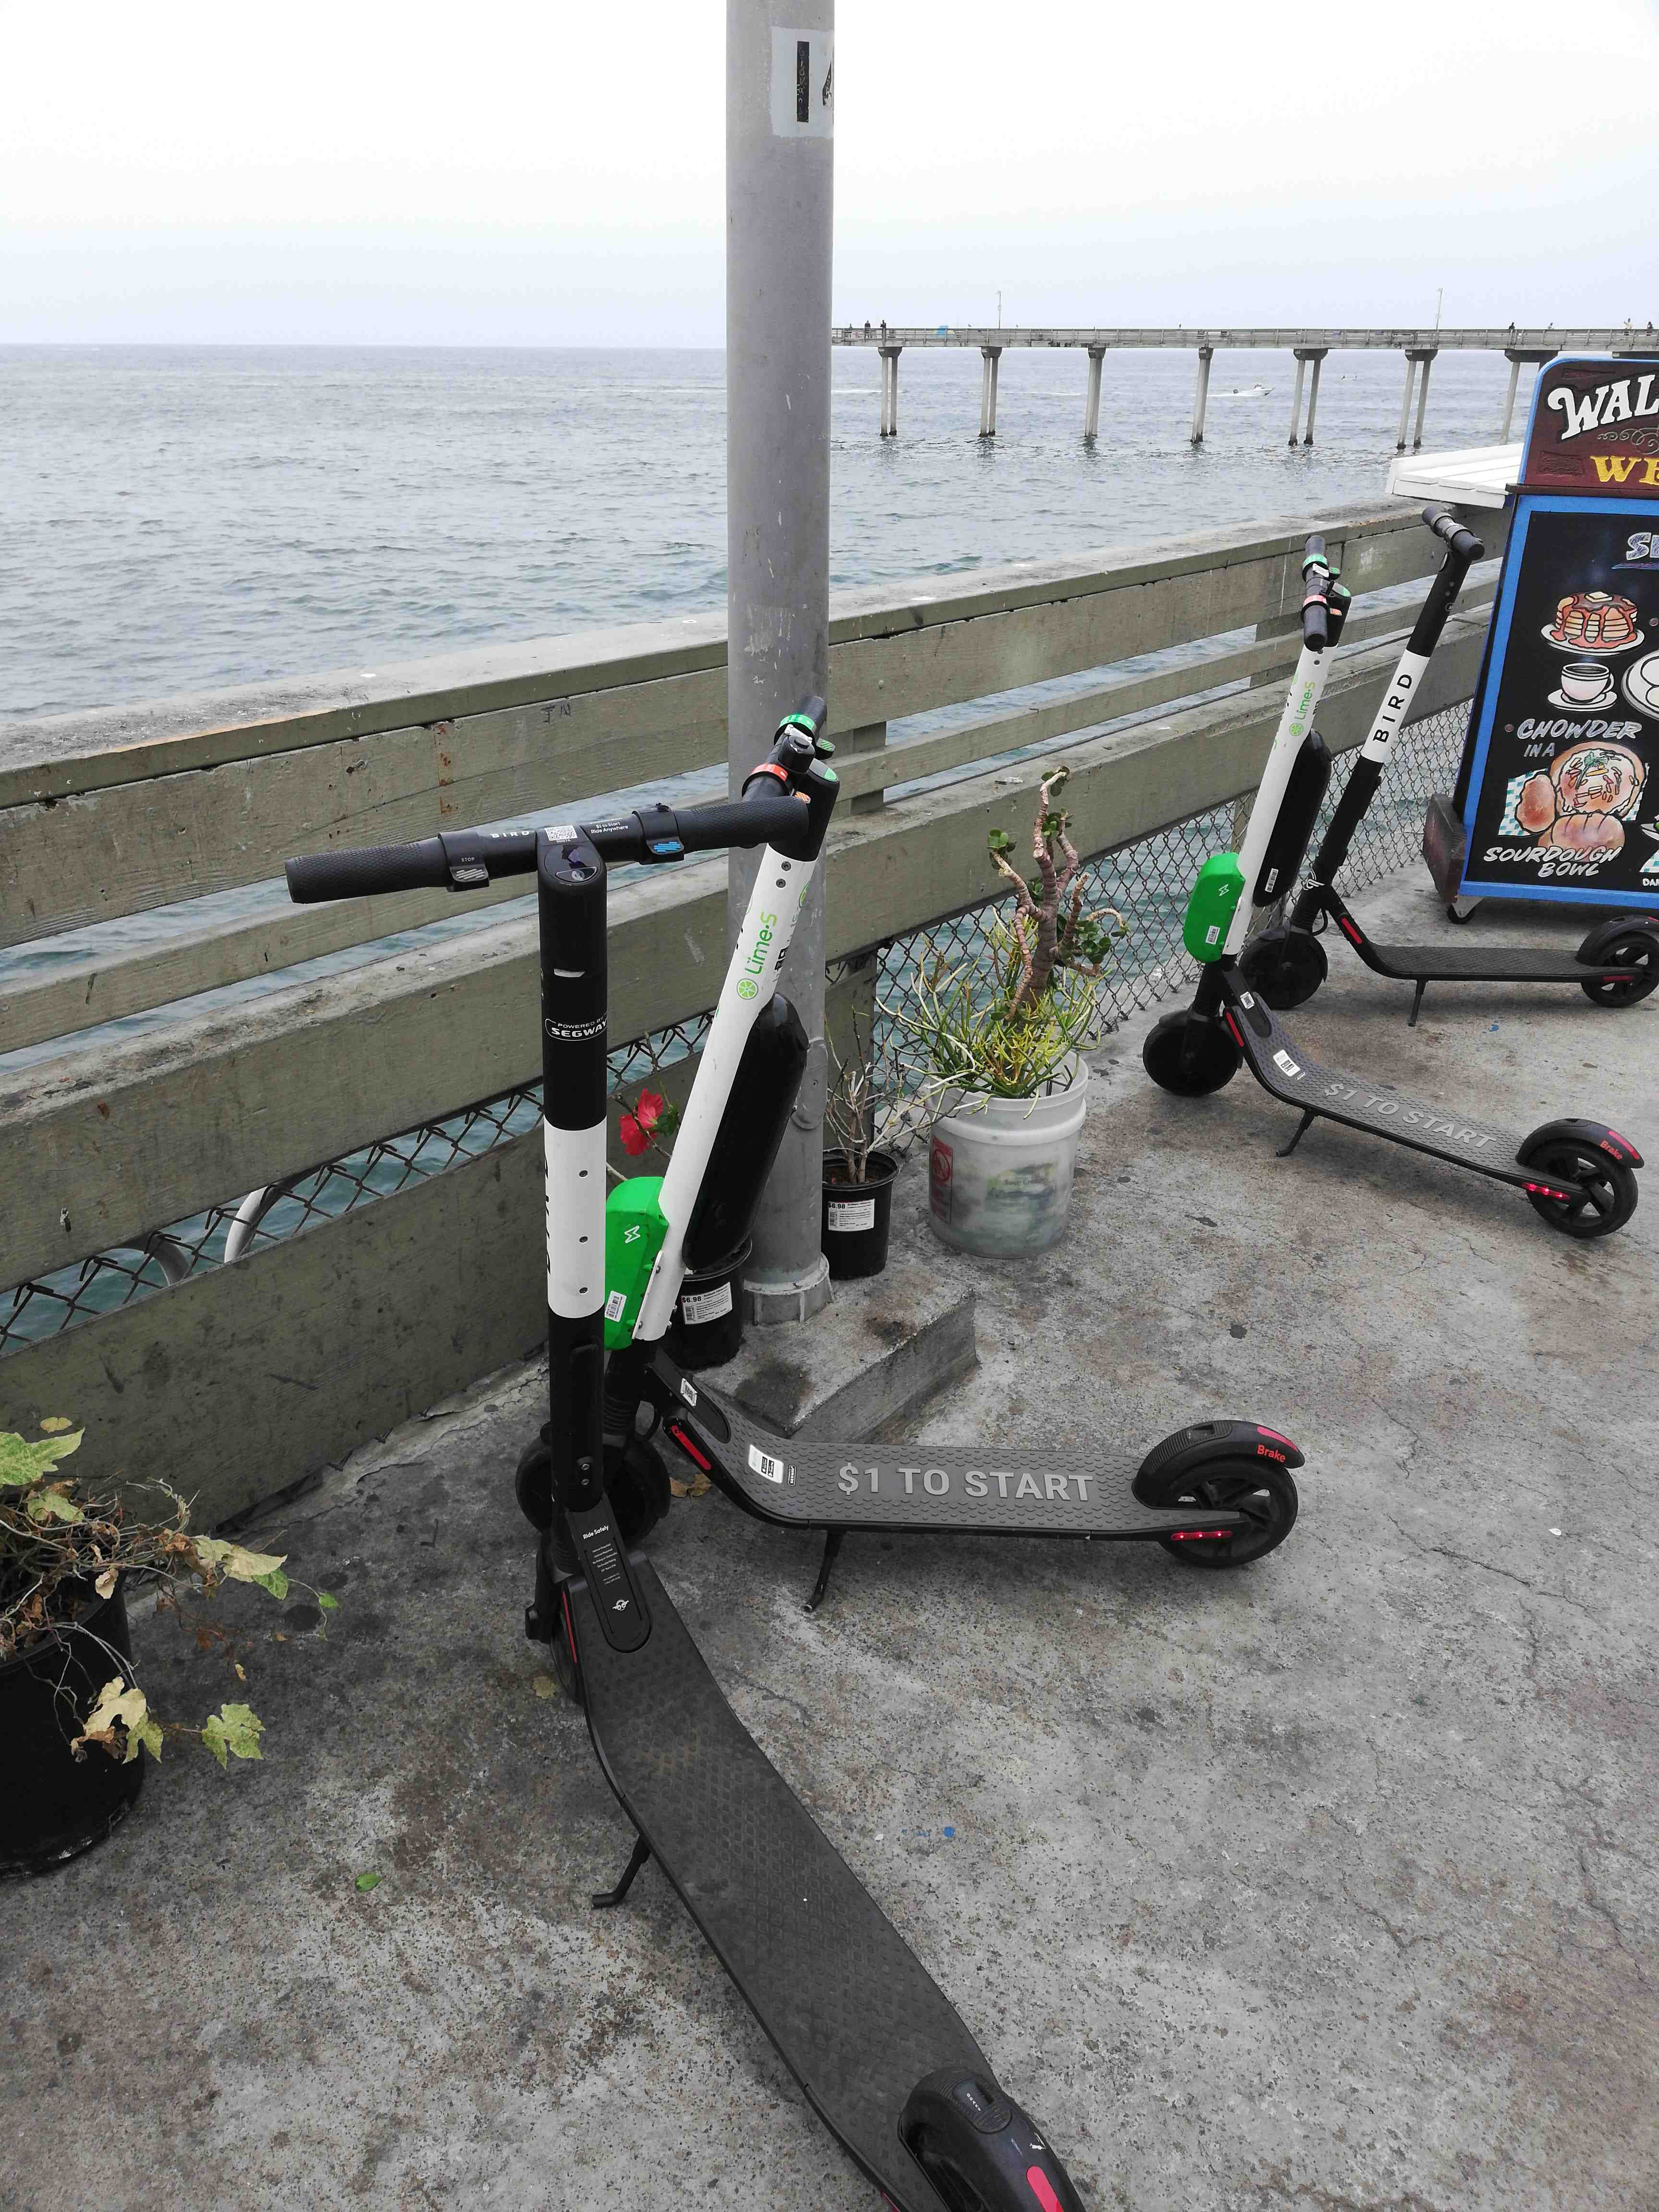scooter: (605, 705, 1307, 1592), (1121, 540, 1645, 1249)
